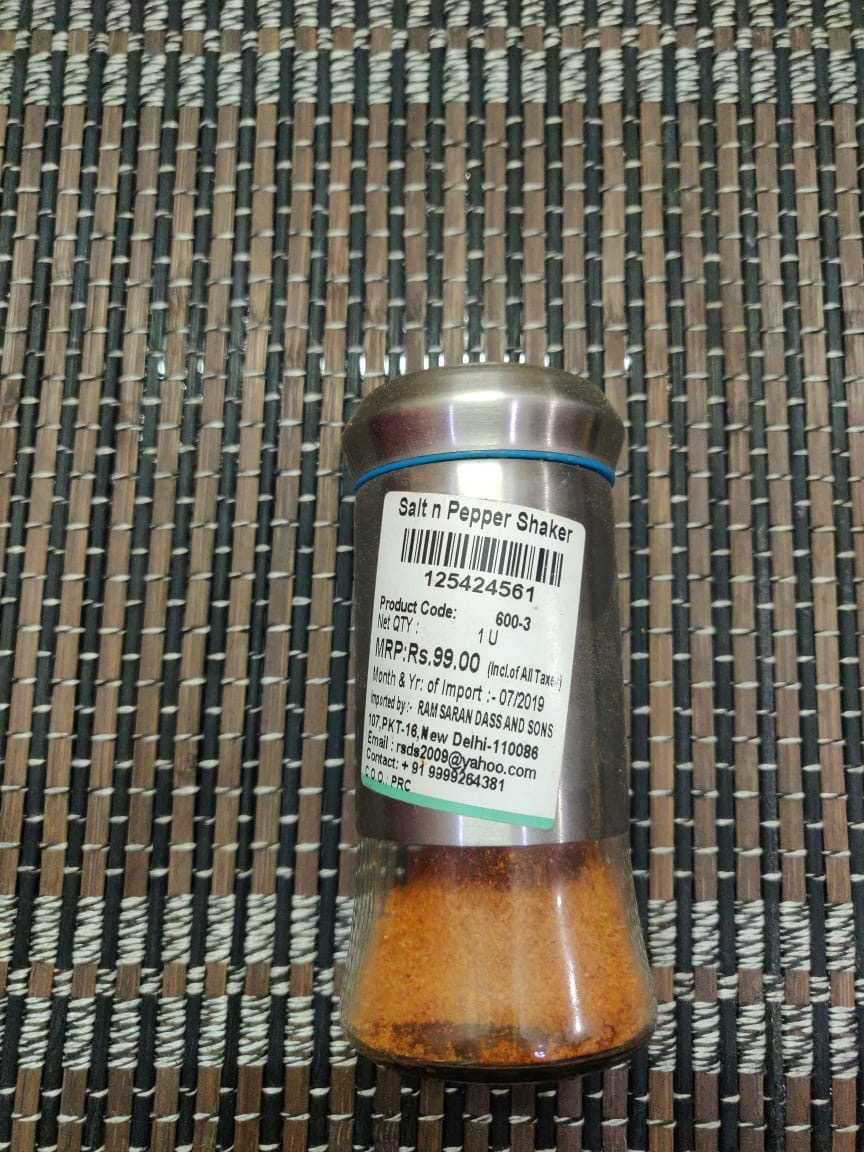barcode: (386, 517, 571, 599)
